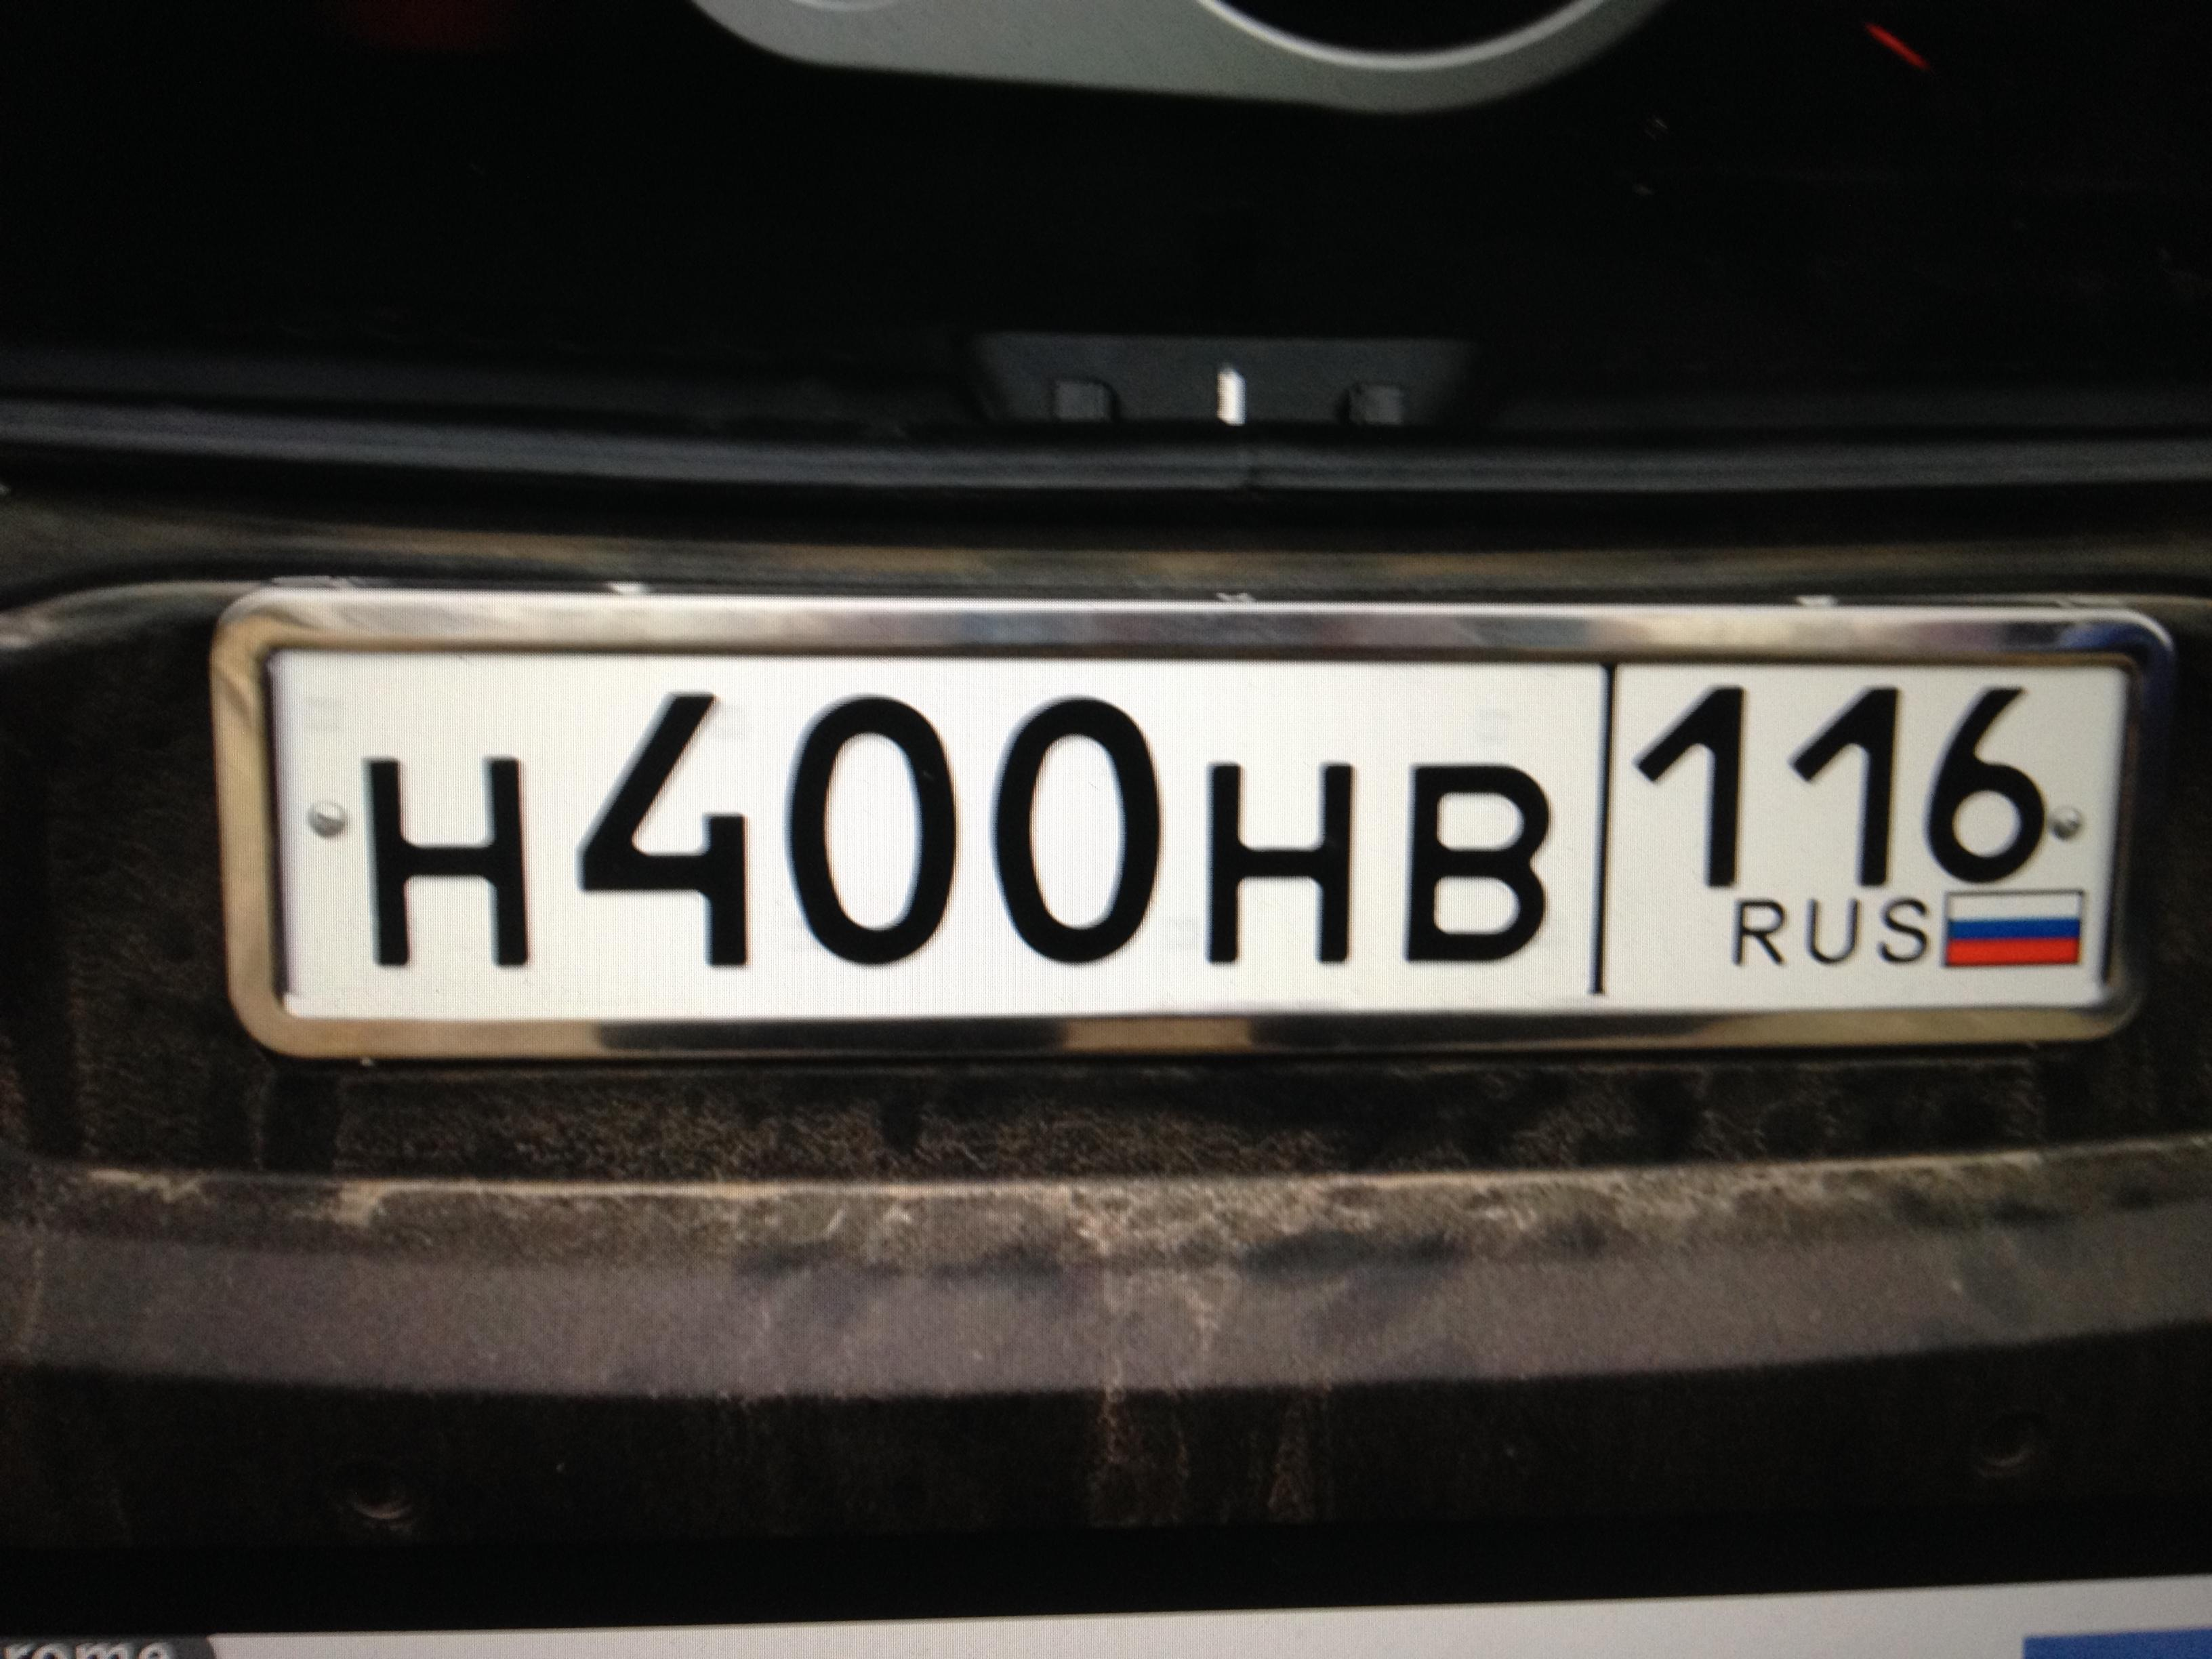license-plateSW: (247, 634, 2143, 1022)
